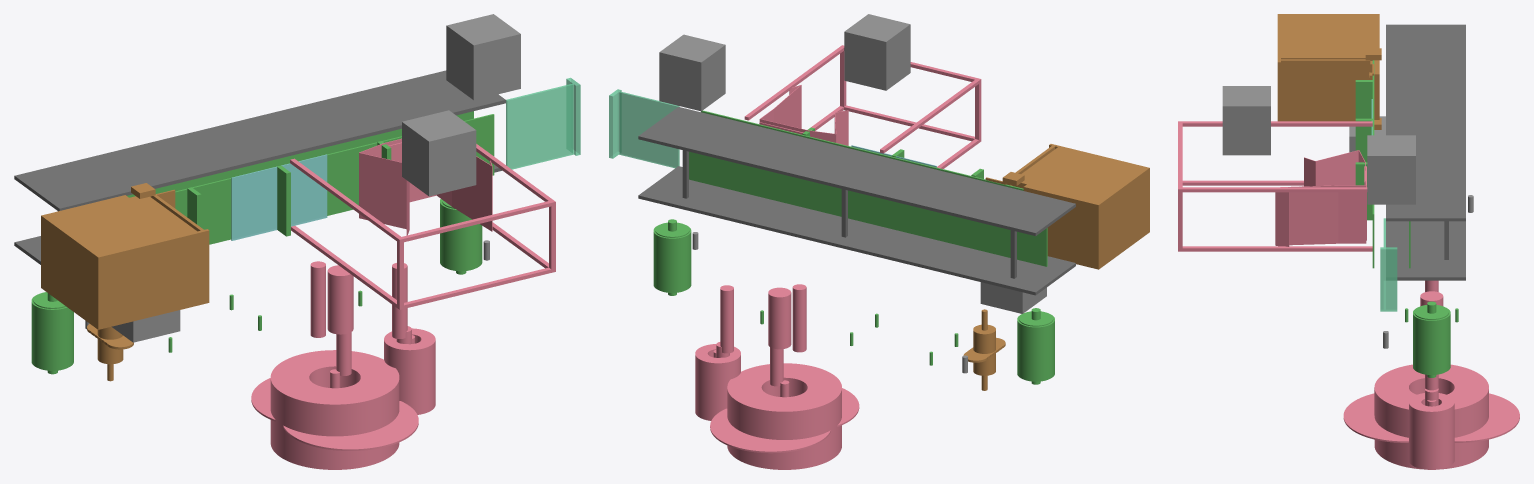
File: sticker_machine.glb
3 views of the same model, side by side, from view 1: azimuth 30°, elevation 25°; view 2: azimuth 150°, elevation 25°; view 3: azimuth 270°, elevation 25° (orthographic). The views are drawn at different scales.
Visible parts, largest first — view 1: label_head_part, frame_part, feeder_part, conveyor_part, motor_M2_part, exit_ramp_part, motor_M3_part, card_sample_part, motor_M1_part; view 2: frame_part, label_head_part, conveyor_part, feeder_part, motor_M2_part, motor_M3_part, exit_ramp_part, motor_M1_part; view 3: label_head_part, frame_part, feeder_part, conveyor_part, motor_M2_part, motor_M3_part, exit_ramp_part, motor_M1_part.
Boxes of the visible parts, x1,y1,x2,y2 form: label_head_part: [251, 138, 555, 469]; frame_part: [14, 70, 505, 264]; feeder_part: [41, 183, 209, 381]; conveyor_part: [31, 111, 494, 374]; motor_M2_part: [446, 14, 520, 260]; exit_ramp_part: [506, 77, 580, 169]; motor_M3_part: [402, 110, 476, 196]; card_sample_part: [231, 154, 327, 240]; motor_M1_part: [85, 310, 180, 342]; frame_part: [638, 107, 1075, 295]; label_head_part: [695, 45, 981, 469]; conveyor_part: [653, 110, 1054, 384]; feeder_part: [963, 144, 1149, 390]; motor_M2_part: [659, 34, 725, 249]; motor_M3_part: [844, 14, 910, 90]; exit_ramp_part: [609, 89, 679, 168]; motor_M1_part: [962, 282, 1046, 373]; label_head_part: [1178, 121, 1519, 469]; frame_part: [1386, 24, 1465, 280]; feeder_part: [1277, 14, 1381, 129]; conveyor_part: [1355, 60, 1458, 377]; motor_M2_part: [1367, 135, 1415, 348]; motor_M3_part: [1222, 86, 1270, 155]; exit_ramp_part: [1380, 218, 1397, 311]; motor_M1_part: [1349, 116, 1473, 212].
Bounding box in the file's own units: 484 × 346 × 298.
